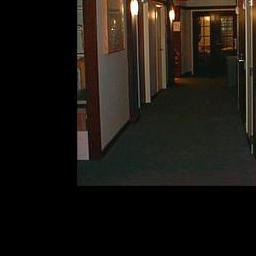Bote de Basura: (227, 56, 236, 88)
Puerta: (198, 17, 233, 72), (236, 0, 248, 129), (251, 0, 256, 170), (155, 5, 162, 94)
